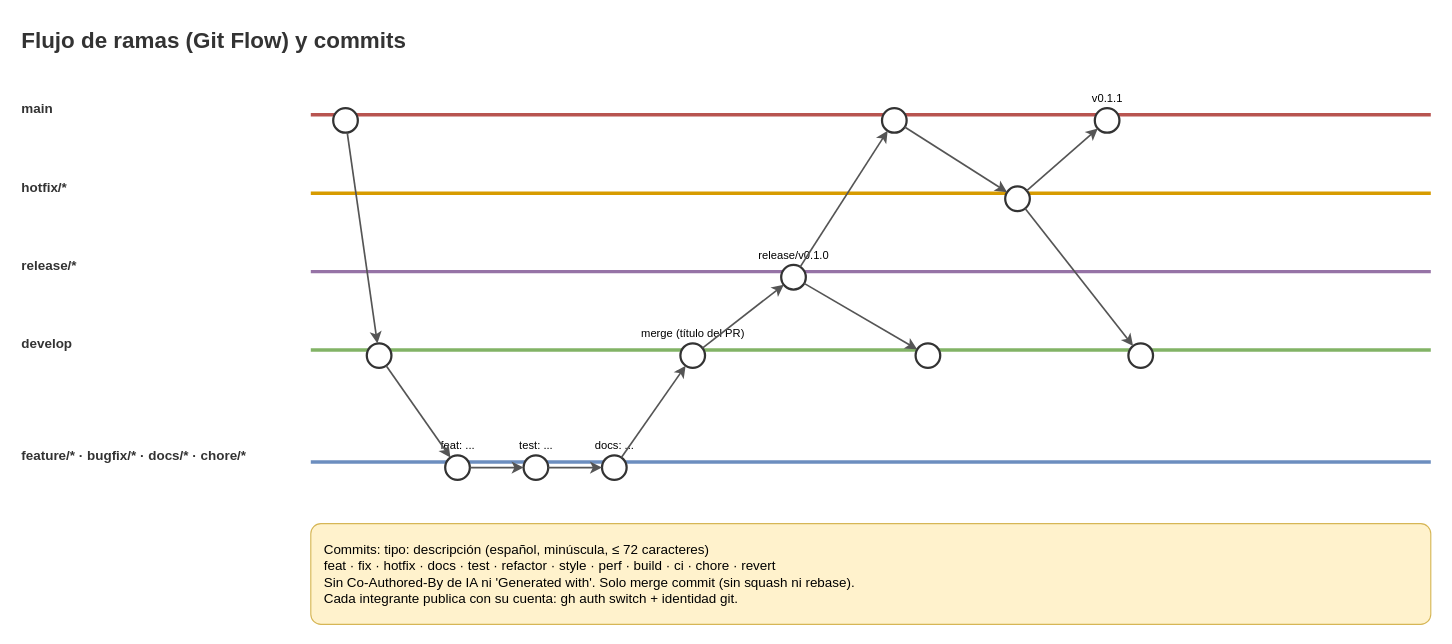
The diagram is 1452 pixels wide and 644 high, and some of its shapes have lost their labels. Each missing label, with the centre of its shape:
"hotfix: ..." belongs at (1017,198).
"v0.0.0" belongs at (345,119).
"v0.1.0" belongs at (893,119).
